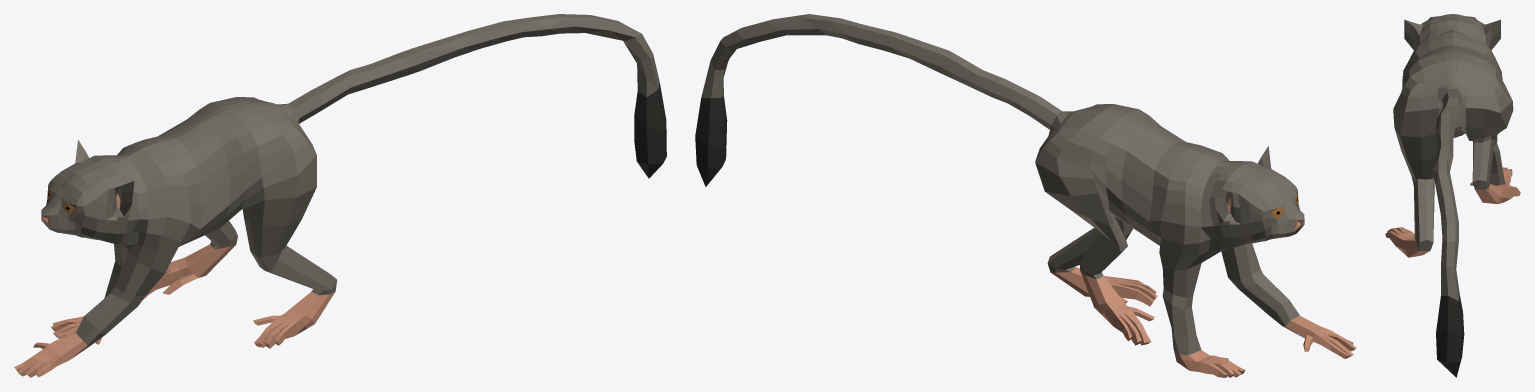
Rendered from archicebus.glb.
3 views of the same model, side by side, from view 1: azimuth 30°, elevation 25°; view 2: azimuth 150°, elevation 25°; view 3: azimuth 270°, elevation 25° (orthographic). The views are drawn at different scales.
Bounding box in the file's own units: 0.2202 × 0.0762 × 0.0459.
